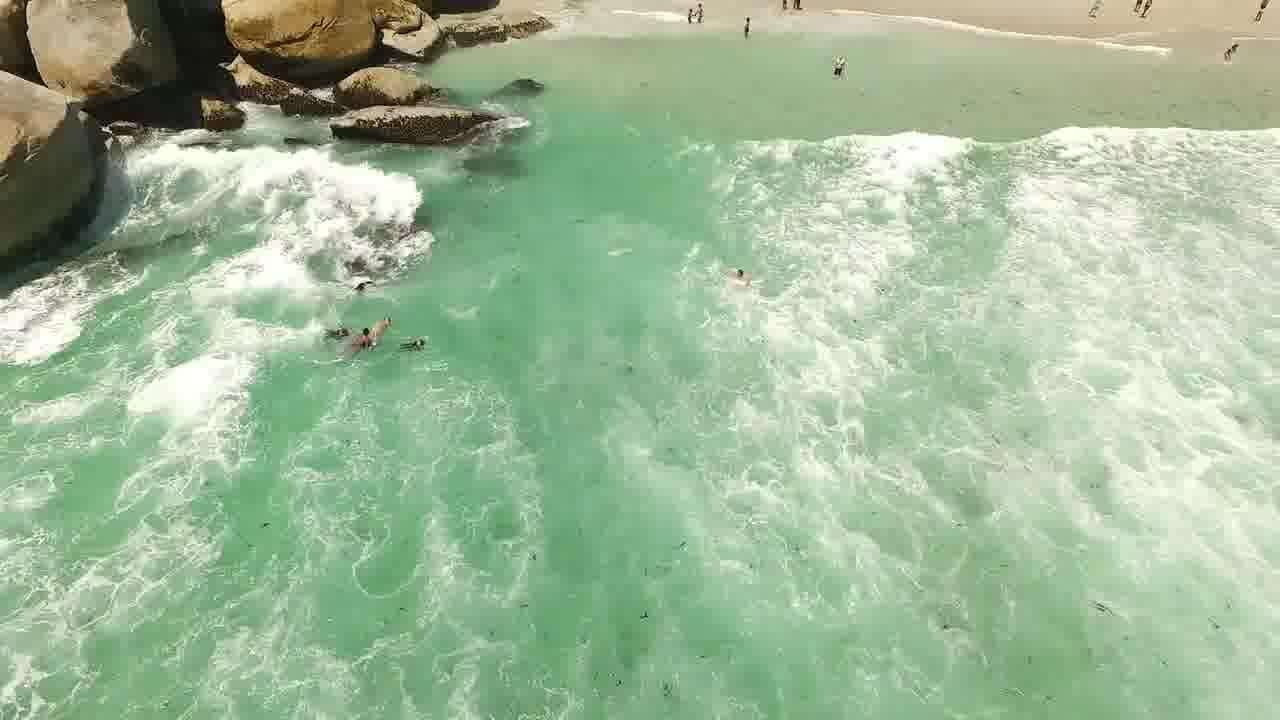human: (351, 307, 392, 356), (818, 45, 860, 90), (719, 248, 756, 293), (341, 269, 381, 296), (401, 323, 429, 360), (731, 6, 763, 38), (671, 3, 715, 22), (1218, 37, 1244, 61)
